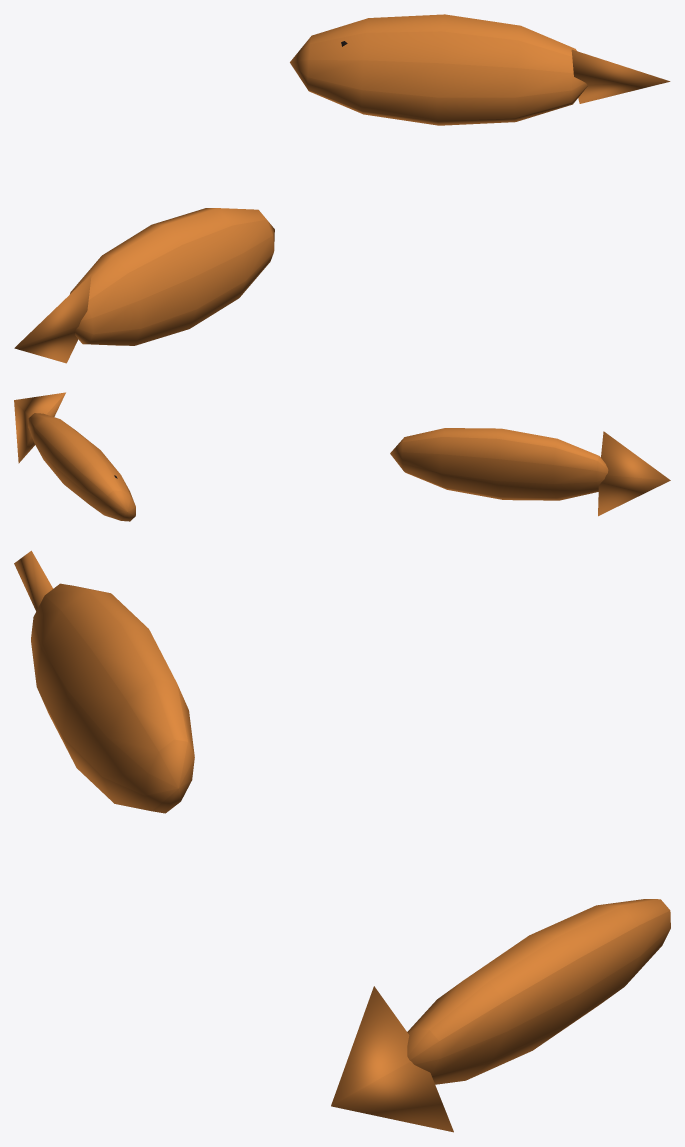
Rendered from fish.glb.
3 renders of one model, top to bottom at view 1: azimuth 30°, elevation 25°; view 2: azimuth 150°, elevation 25°; view 3: azimuth 270°, elevation 25°, orthographic. The views are drawn at different scales.
Parts seen in each view (by area): view 1: Fish; view 2: Fish; view 3: Fish.
Boxes of the visible parts, x1,y1,x2,y2 form: Fish: [14, 14, 670, 363]; Fish: [14, 392, 670, 521]; Fish: [14, 550, 670, 1132].
Bounding box in the file's own units: 0.9216 × 0.1154 × 0.4714.
